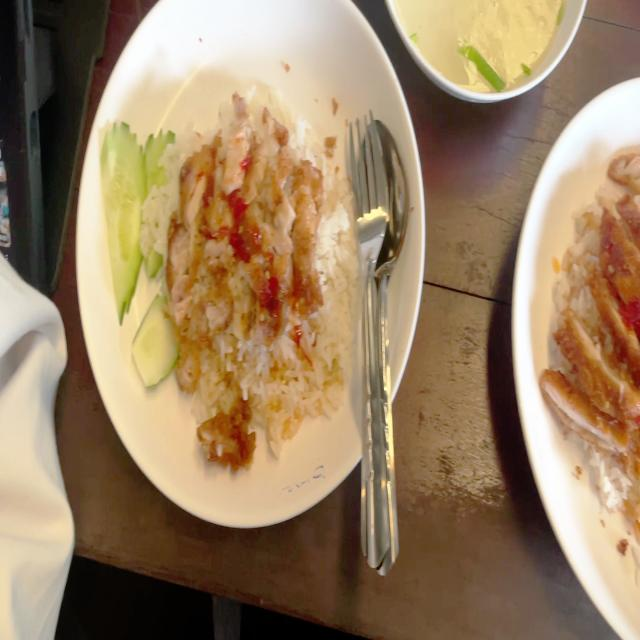chicken_rice: (146, 85, 362, 462), (551, 144, 640, 546)
cucumber: (99, 115, 184, 403)
fried_chicken: (161, 88, 330, 398), (532, 130, 640, 509), (194, 386, 262, 487)
